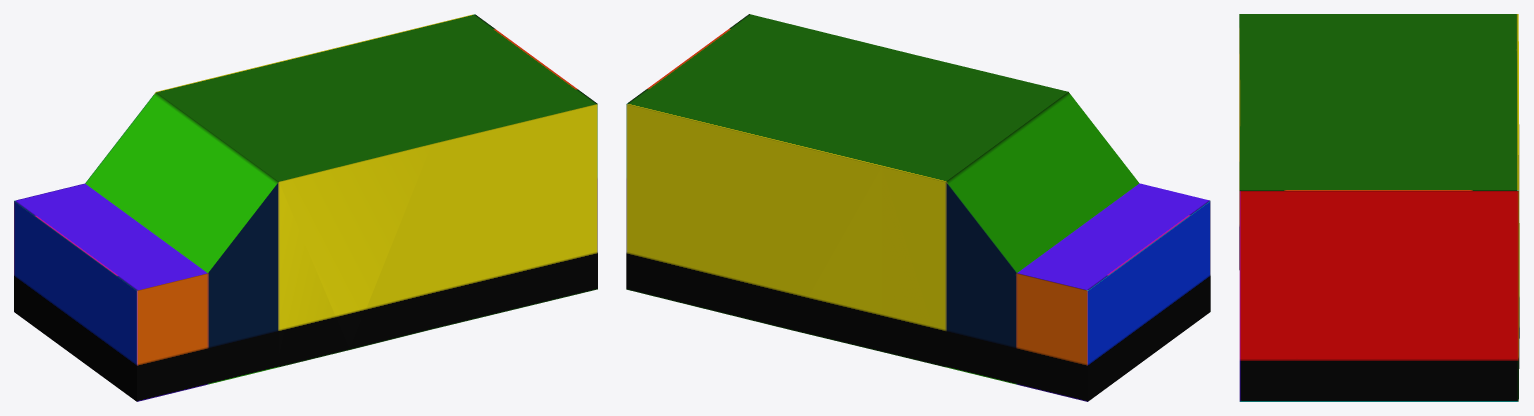
Rendered from PSW.obj.
3 renders of one model, left to right at view 1: azimuth 30°, elevation 25°; view 2: azimuth 150°, elevation 25°; view 3: azimuth 270°, elevation 25°, orthographic. The views are drawn at different scales.
Visible parts, largest first — view 1: PRLD01.001; view 2: PRLD01.001; view 3: PRLD01.001.
Part boxes in pixels (x1,y1,x2,y2): PRLD01.001: [14, 14, 597, 401]; PRLD01.001: [626, 14, 1210, 401]; PRLD01.001: [1239, 14, 1519, 401].
Bounding box in the file's own units: 208 × 80 × 96.46.
